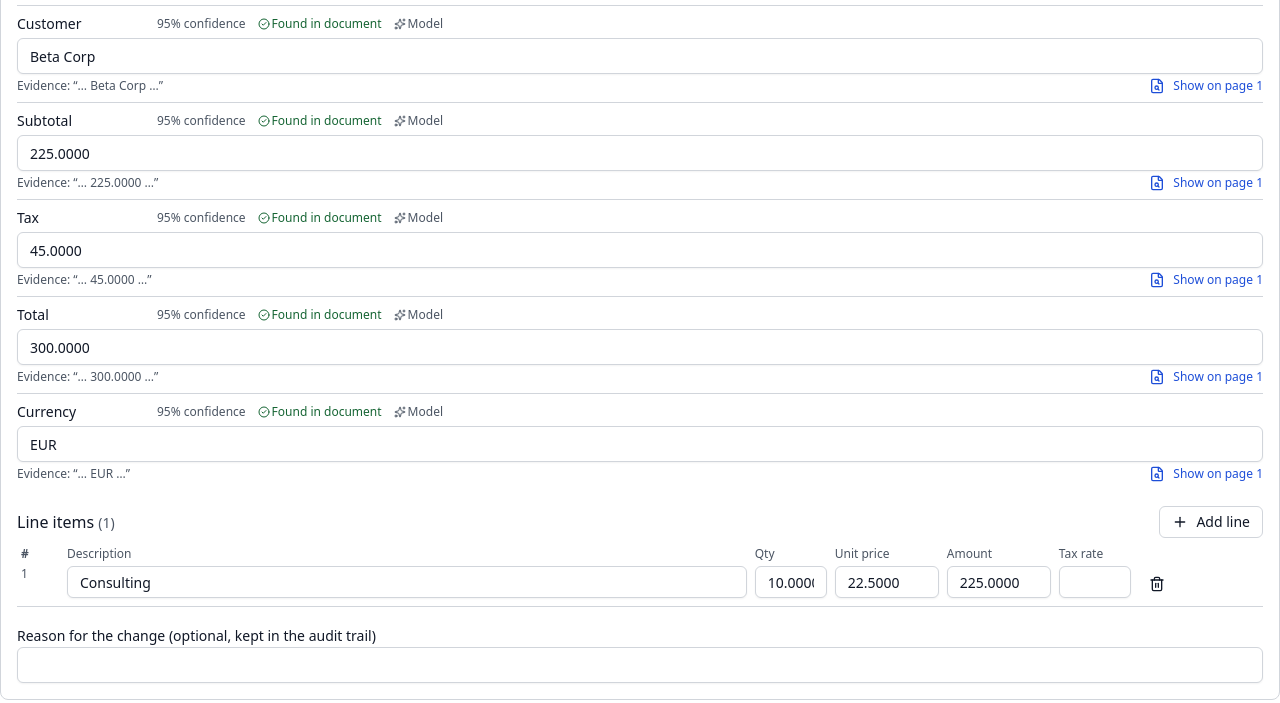
Test case: fields form › PATCH sends only dirty fields with If-Match = lock_version
(page scrolled)
Replace the text in the field labelled "Total" with "270.00": coordinates (640, 347) [17,329,1263,365]
(page scrolled)
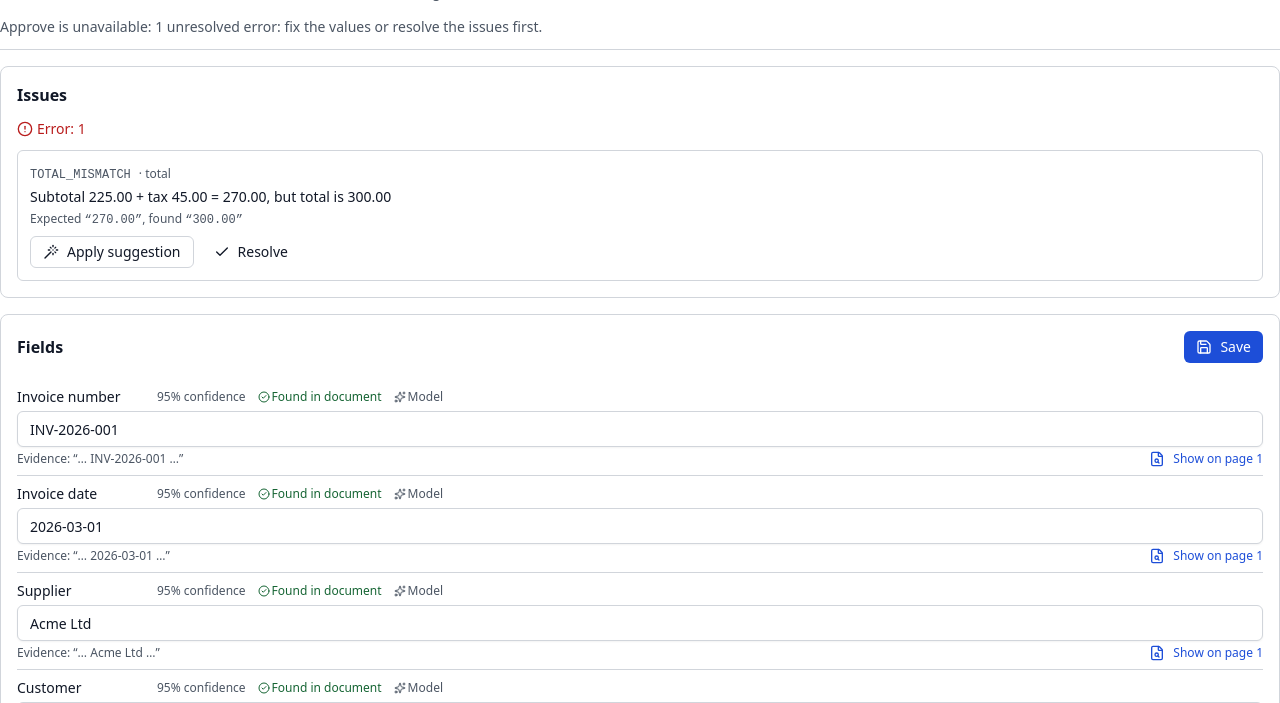
Click the button "Save": coordinates (1224, 347) [1184,331,1263,363]
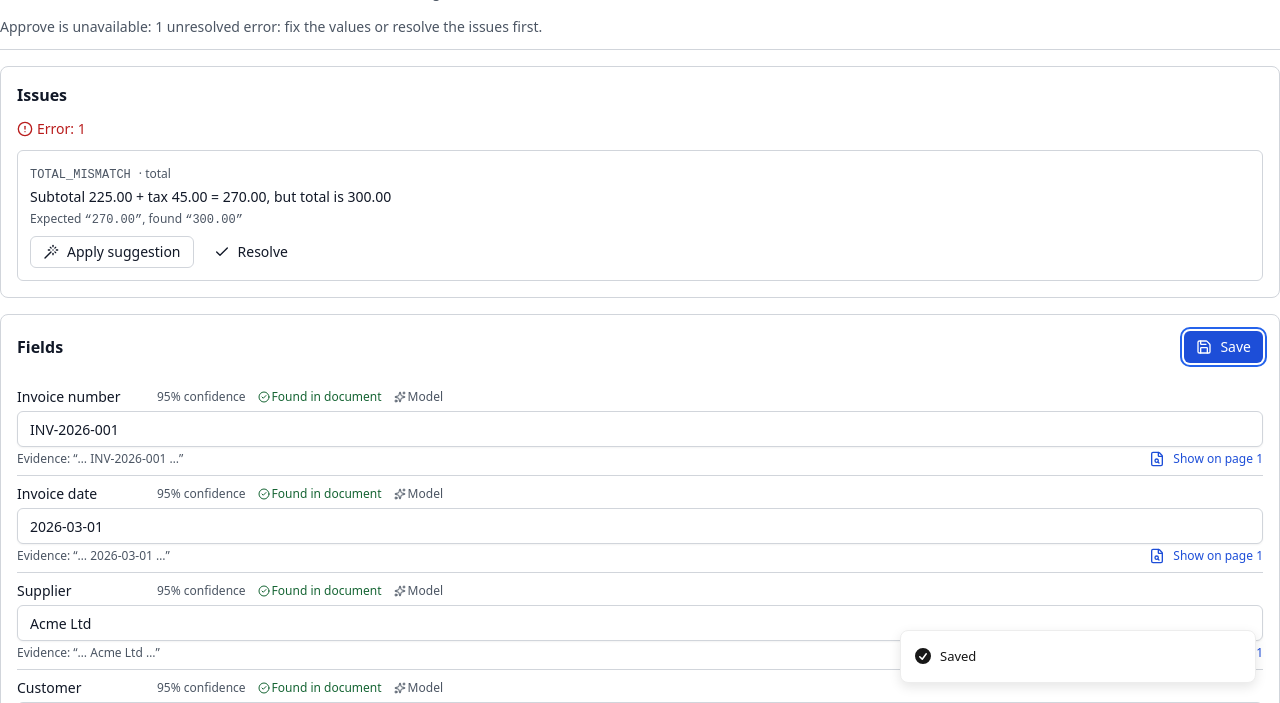
Now the text "Saved" is shown, box [940,646,976,666]
